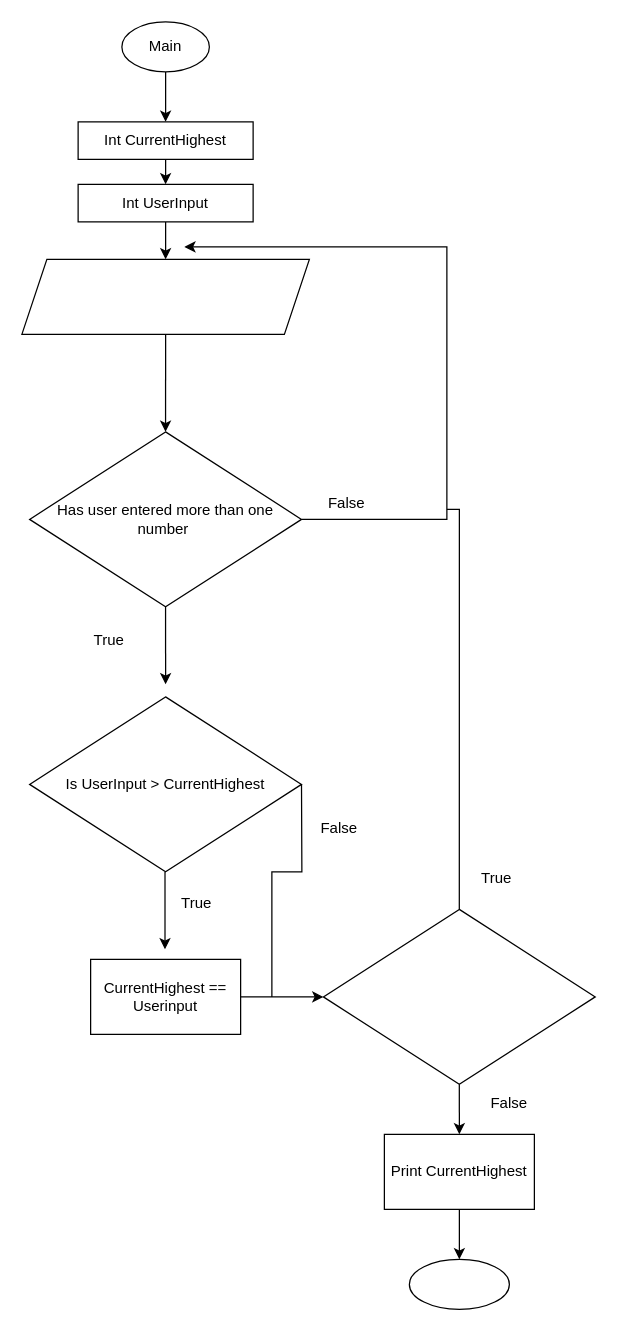
The diagram is 618 pixels wide and 1331 high, and some of its shapes have lost their labels. The centre of each missing label's shape, as x and y in pixels:
End: [458,1283]
Is UserInput >-1: [458,996]
Output "Enter a number from 0-100": [165,296]
